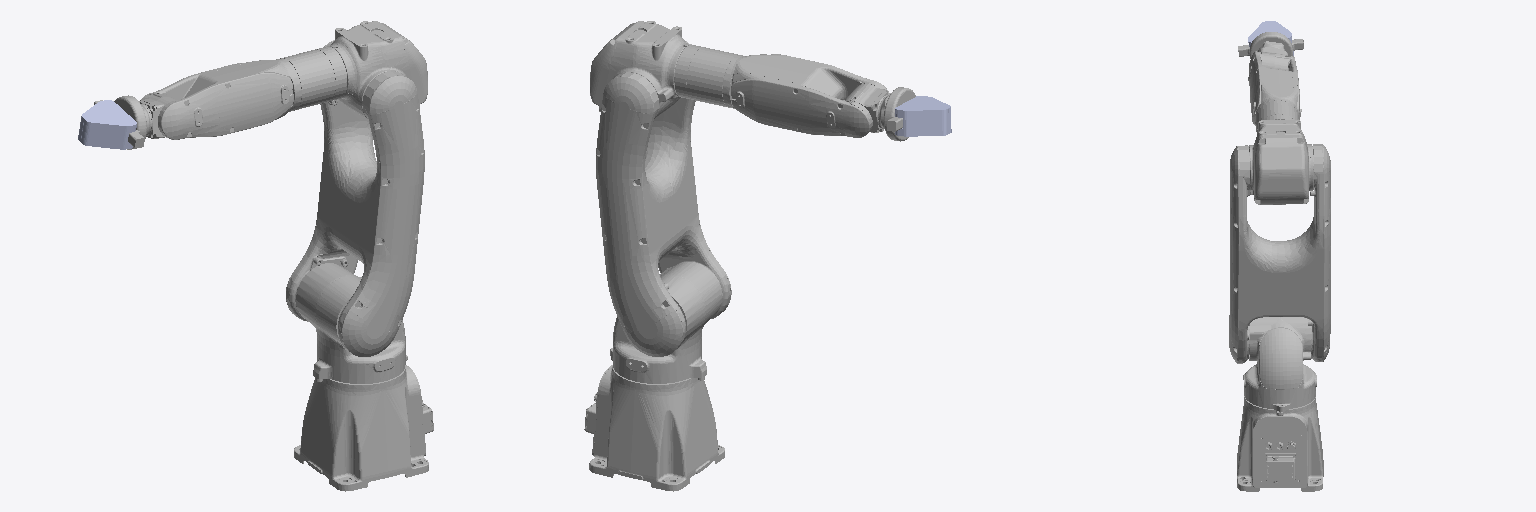
URDF robot description (GP7 Robot.SLDASM):
<?xml version="1.0" encoding="utf-8"?>
<!-- This URDF was automatically created by SolidWorks to URDF Exporter! Originally created by [author] ([email redacted]) 
     Commit Version: 1.6.0-4-g7f85cfe  Build Version: 1.6.7995.38578
     For more information, please see http://wiki.ros.org/sw_urdf_exporter -->
<robot
  name="GP7 Robot.SLDASM">
  <link
    name="base_link">
    <inertial>
      <origin
        xyz="0.00556892272669175 -6.27066159364017E-07 0.0947579647169003"
        rpy="0 0 0" />
      <mass
        value="5.21544079925593" />
      <inertia
        ixx="0.0260256781512797"
        ixy="-2.5924745904837E-05"
        ixz="-0.000139844593770951"
        iyy="0.0252950776511285"
        iyz="4.76784711767462E-05"
        izz="0.0217205299171908" />
    </inertial>
    <visual>
      <origin
        xyz="0 0 0"
        rpy="0 0 0" />
      <geometry>
        <mesh
          filename="package://gp7_description/meshes/base_link.STL" />
      </geometry>
      <material
        name="">
        <color
          rgba="0.752941176470588 0.752941176470588 0.752941176470588 1" />
      </material>
    </visual>
    <collision>
      <origin
        xyz="0 0 0"
        rpy="0 0 0" />
      <geometry>
        <mesh
          filename="package://gp7_description/meshes/base_link.STL" />
      </geometry>
    </collision>
  </link>
  <link
    name="link_1">
    <inertial>
      <origin
        xyz="-0.0156640644370582 -0.000511078017811401 0.0998494406800811"
        rpy="0 0 0" />
      <mass
        value="2.94469809358222" />
      <inertia
        ixx="0.0111825110504346"
        ixy="-2.9811863375969E-05"
        ixz="0.00217745943510949"
        iyy="0.0119458549883966"
        iyz="8.85331651293519E-05"
        izz="0.00886869088704277" />
    </inertial>
    <visual>
      <origin
        xyz="0 0 0"
        rpy="0 0 0" />
      <geometry>
        <mesh
          filename="package://gp7_description/meshes/link_1.STL" />
      </geometry>
      <material
        name="">
        <color
          rgba="0.752941176470588 0.752941176470588 0.752941176470588 1" />
      </material>
    </visual>
    <collision>
      <origin
        xyz="0 0 0"
        rpy="0 0 0" />
      <geometry>
        <mesh
          filename="package://gp7_description/meshes/link_1.STL" />
      </geometry>
    </collision>
  </link>
  <joint
    name="joint_1"
    type="revolute">
    <origin
      xyz="0 0 0.1901"
      rpy="0 0 0" />
    <parent
      link="base_link" />
    <child
      link="link_1" />
    <axis
      xyz="0 0 1" />
    <limit
      lower="-3.14"
      upper="3.14"
      effort="100"
      velocity="1.0" />
  </joint>
  <link
    name="link_2">
    <inertial>
      <origin
        xyz="0.048951329816301 0.190746109963439 -0.00186791889973696"
        rpy="0 0 0" />
      <mass
        value="6.2405514202476" />
      <inertia
        ixx="0.12511389015047"
        ixy="-0.0106375502315048"
        ixz="-0.000612297490243357"
        iyy="0.0289157213719685"
        iyz="-4.65509655803263E-05"
        izz="0.110545180687341" />
    </inertial>
    <visual>
      <origin
        xyz="0 0 0"
        rpy="0 0 0" />
      <geometry>
        <mesh
          filename="package://gp7_description/meshes/link_2.STL" />
      </geometry>
      <material
        name="">
        <color
          rgba="0.752941176470588 0.752941176470588 0.752941176470588 1" />
      </material>
    </visual>
    <collision>
      <origin
        xyz="0 0 0"
        rpy="0 0 0" />
      <geometry>
        <mesh
          filename="package://gp7_description/meshes/link_2.STL" />
      </geometry>
    </collision>
  </link>
  <joint
    name="joint_2"
    type="revolute">
    <origin
      xyz="-0.0399638790462151 -0.00169952535722473 0.139900000000524"
      rpy="1.5707963267949 0 0" />
    <parent
      link="link_1" />
    <child
      link="link_2" />
    <axis
      xyz="0.0412240631937652 0 0.999149926994841" />
    <limit
      lower="-3.14"
      upper="3.14"
      effort="100"
      velocity="1.0" />
  </joint>
  <link
    name="link_3">
    <inertial>
      <origin
        xyz="0.0160457922240239 -0.0190802860281885 -0.000816189919224628"
        rpy="0 0 0" />
      <mass
        value="2.84915106810897" />
      <inertia
        ixx="0.00658550295686827"
        ixy="-0.000492552305401648"
        ixz="-2.98557751860674E-05"
        iyy="0.0085806343455094"
        iyz="3.64668295071717E-05"
        izz="0.00779141136558319" />
    </inertial>
    <visual>
      <origin
        xyz="0 0 0"
        rpy="0 0 0" />
      <geometry>
        <mesh
          filename="package://gp7_description/meshes/link_3.STL" />
      </geometry>
      <material
        name="">
        <color
          rgba="0.752941176470588 0.752941176470588 0.752941176470588 1" />
      </material>
    </visual>
    <collision>
      <origin
        xyz="0 0 0"
        rpy="0 0 0" />
      <geometry>
        <mesh
          filename="package://gp7_description/meshes/link_3.STL" />
      </geometry>
    </collision>
  </link>
  <joint
    name="joint_3"
    type="revolute">
    <origin
      xyz="0.0503759439359012 0.442134227086597 -0.002142314416107"
      rpy="0.041307778208651 -0.00969583648873429 1.80823908321343" />
    <parent
      link="link_2" />
    <child
      link="link_3" />
    <axis
      xyz="0 -0.0012296164180783 -0.999999243983334" />
    <limit
      lower="-3.14"
      upper="3.14"
      effort="100"
      velocity="1.0" />
  </joint>
  <link
    name="link_4">
    <inertial>
      <origin
        xyz="-0.00025976983308329 -0.000606527882467878 0.24675063483991"
        rpy="0 0 0" />
      <mass
        value="2.75543476818323" />
      <inertia
        ixx="0.010105688078101"
        ixy="-0.000119108463949627"
        ixz="5.78389419516153E-05"
        iyy="0.0107642324054807"
        iyz="-0.000313456642297312"
        izz="0.00308572821330252" />
    </inertial>
    <visual>
      <origin
        xyz="0 0 0"
        rpy="0 0 0" />
      <geometry>
        <mesh
          filename="package://gp7_description/meshes/link_4.STL" />
      </geometry>
      <material
        name="">
        <color
          rgba="0.752941176470588 0.752941176470588 0.752941176470588 1" />
      </material>
    </visual>
    <collision>
      <origin
        xyz="0 0 0"
        rpy="0 0 0" />
      <geometry>
        <mesh
          filename="package://gp7_description/meshes/link_4.STL" />
      </geometry>
    </collision>
  </link>
  <joint
    name="joint_4"
    type="revolute">
    <origin
      xyz="0.0388801721925306 -0.00939797190787661 0.000454308759110602"
      rpy="1.57203865986274 0.000297435749113141 2.89685980999508" />
    <parent
      link="link_3" />
    <child
      link="link_4" />
    <axis
      xyz="0 0 1" />
    <limit
      lower="-3.14"
      upper="3.14"
      effort="100"
      velocity="1.0" />
  </joint>
  <link
    name="link_5">
    <inertial>
      <origin
        xyz="-0.00310027636449783 0.0144406007119806 -0.00176602543910787"
        rpy="0 0 0" />
      <mass
        value="0.245886306087054" />
      <inertia
        ixx="0.000139576932998966"
        ixy="-2.28141914533607E-06"
        ixz="7.97120521965196E-10"
        iyy="0.000156791427083179"
        iyz="-1.2933551670261E-06"
        izz="0.000185618470305794" />
    </inertial>
    <visual>
      <origin
        xyz="0 0 0"
        rpy="0 0 0" />
      <geometry>
        <mesh
          filename="package://gp7_description/meshes/link_5.STL" />
      </geometry>
      <material
        name="">
        <color
          rgba="0.752941176470588 0.752941176470588 0.752941176470588 1" />
      </material>
    </visual>
    <collision>
      <origin
        xyz="0 0 0"
        rpy="0 0 0" />
      <geometry>
        <mesh
          filename="package://gp7_description/meshes/link_5.STL" />
      </geometry>
    </collision>
  </link>
  <joint
    name="joint_5"
    type="revolute">
    <origin
      xyz="0.00312213402888284 0.000136881955795811 0.439970310269017"
      rpy="1.57073179267725 -0.0658197300591794 0.174532730673124" />
    <parent
      link="link_4" />
    <child
      link="link_5" />
    <axis
      xyz="-0.00447669926495448 0.000233060717240809 0.999989952372719" />
    <limit
      lower="-3.14"
      upper="3.14"
      effort="100"
      velocity="1.0" />
  </joint>
  <link
    name="link_6">
    <inertial>
      <origin
        xyz="-0.00407025472637845 3.23860923414909E-05 0.0863680824547134"
        rpy="0 0 0" />
      <mass
        value="0.214725813088188" />
      <inertia
        ixx="0.000223652589035899"
        ixy="-3.06090382841323E-05"
        ixz="-8.48310872937687E-07"
        iyy="0.000132598647310503"
        iyz="-2.46489126503789E-07"
        izz="0.00031093762188751" />
    </inertial>
    <visual>
      <origin
        xyz="0 0 0"
        rpy="0 0 0" />
      <geometry>
        <mesh
          filename="package://gp7_description/meshes/link_6.STL" />
      </geometry>
      <material
        name="">
        <color
          rgba="0.752941176470588 0.752941176470588 0.752941176470588 1" />
      </material>
    </visual>
    <collision>
      <origin
        xyz="0 0 0"
        rpy="0 0 0" />
      <geometry>
        <mesh
          filename="package://gp7_description/meshes/link_6.STL" />
      </geometry>
    </collision>
  </link>
  <joint
    name="joint_6"
    type="revolute">
    <origin
      xyz="0 0 0"
      rpy="-1.5707963267949 0 0" />
    <parent
      link="link_5" />
    <child
      link="link_6" />
    <axis
      xyz="0.00982468830482129 -0.00029273971838837 -0.999951693734838" />
    <limit
      lower="-3.14"
      upper="3.14"
      effort="100"
      velocity="1.0" />
  </joint>
  <link
    name="link_7">
    <inertial>
      <origin
        xyz="-0.00442171967791183 0.00409624700892364 0.0178260368407184"
        rpy="0 0 0" />
      <mass
        value="0.144760080963103" />
      <inertia
        ixx="9.93343371743911E-05"
        ixy="-3.16311535090085E-07"
        ixz="2.07190731215265E-07"
        iyy="5.87984352111252E-05"
        iyz="1.80230086588129E-05"
        izz="0.000107705274226785" />
    </inertial>
    <visual>
      <origin
        xyz="0 0 0"
        rpy="0 0 0" />
      <geometry>
        <mesh
          filename="package://gp7_description/meshes/link_7.STL" />
      </geometry>
      <material
        name="">
        <color
          rgba="0.792156862745098 0.819607843137255 0.933333333333333 1" />
      </material>
    </visual>
    <collision>
      <origin
        xyz="0 0 0"
        rpy="0 0 0" />
      <geometry>
        <mesh
          filename="package://gp7_description/meshes/link_7.STL" />
      </geometry>
    </collision>
  </link>
  <joint
    name="joint_7"
    type="prismatic">
    <origin
      xyz="-0.0111591245961624 -0.0371741770481596 0.135000000000577"
      rpy="-1.54088131317847 0 -0.29162636884829" />
    <parent
      link="link_6" />
    <child
      link="link_7" />
    <axis
      xyz="-0.00440449001661042 -0.0274111470578707 -0.999614540452802" />
    <limit
      lower="-3.14"
      upper="3.14"
      effort="100"
      velocity="1.0" />
  </joint>
  <link
    name="link_8">
    <inertial>
      <origin
        xyz="0.00425198818078421 0.00284701261838405 0.020527996946165"
        rpy="0 0 0" />
      <mass
        value="0.144760080963103" />
      <inertia
        ixx="9.93316014788732E-05"
        ixy="4.6896953643637E-07"
        ixz="-1.05074443727185E-07"
        iyy="5.69782736000298E-05"
        iyz="1.52440684406542E-05"
        izz="0.000109528171533398" />
    </inertial>
    <visual>
      <origin
        xyz="0 0 0"
        rpy="0 0 0" />
      <geometry>
        <mesh
          filename="package://gp7_description/meshes/link_8.STL" />
      </geometry>
      <material
        name="">
        <color
          rgba="0.792156862745098 0.819607843137255 0.933333333333333 1" />
      </material>
    </visual>
    <collision>
      <origin
        xyz="0 0 0"
        rpy="0 0 0" />
      <geometry>
        <mesh
          filename="package://gp7_description/meshes/link_8.STL" />
      </geometry>
    </collision>
  </link>
  <joint
    name="joint_8"
    type="prismatic">
    <origin
      xyz="0.0111591245878672 0.0371741770439874 0.134999999999424"
      rpy="-1.60071134041132 0 2.8499662847415" />
    <parent
      link="link_6" />
    <child
      link="link_8" />
    <axis
      xyz="0.00440449001661078 -0.0274111470578707 0.999614540452801" />
    <limit
      lower="-3.14"
      upper="3.14"
      effort="100"
      velocity="1.0" />
  </joint>
</robot>

--- What the picture shows (computed from the rendered views, not written in the file) ---
The picture shows the robot from 3 angles, left to right: view 1: azimuth 30°, elevation 25°; view 2: azimuth 150°, elevation 25°; view 3: azimuth 270°, elevation 25°; orthographic projection.
Robot: GP7 Robot.SLDASM — 9 links, 8 joints (6 revolute, 2 prismatic); root link base_link; default pose: every joint at zero.
Visible links, largest first — view 1: link_2, base_link, link_4, link_1, link_3, link_8, link_6, link_5, link_7; view 2: link_2, base_link, link_4, link_1, link_3, link_7, link_5, link_6; view 3: link_2, base_link, link_1, link_3, link_4, link_6, link_5.
Link boxes in pixels (x1,y1,x2,y2): link_2: [286, 40, 424, 356]; base_link: [294, 355, 433, 491]; link_4: [141, 46, 346, 139]; link_1: [296, 263, 405, 383]; link_3: [330, 21, 427, 118]; link_8: [81, 112, 136, 149]; link_6: [94, 95, 146, 149]; link_5: [139, 93, 177, 138]; link_7: [78, 100, 124, 141]; link_2: [596, 41, 731, 356]; base_link: [584, 357, 724, 491]; link_4: [674, 45, 888, 137]; link_1: [610, 262, 721, 383]; link_3: [590, 21, 691, 118]; link_7: [895, 102, 948, 136]; link_5: [844, 84, 890, 132]; link_6: [884, 87, 915, 141]; link_2: [1229, 144, 1330, 363]; base_link: [1237, 396, 1323, 491]; link_1: [1243, 317, 1316, 411]; link_3: [1249, 119, 1313, 204]; link_4: [1248, 51, 1301, 133]; link_6: [1238, 32, 1303, 58]; link_5: [1258, 41, 1288, 70].
Bounding box of the posed robot: 0.7491 × 0.2337 × 0.8746 m (x, y, z).
9 mesh visuals loaded from 9 distinct referenced files (9 binary STL).